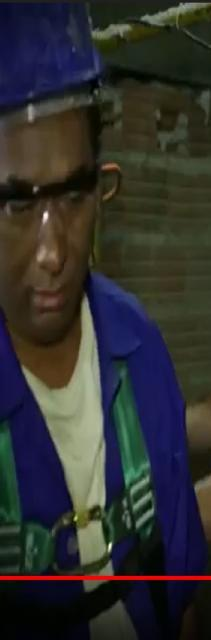hat: (1, 1, 126, 176)
vest: (1, 248, 211, 640)
